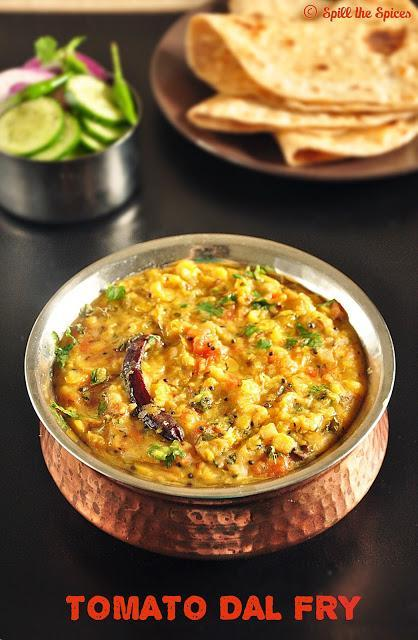dal: (43, 237, 364, 496)
roti: (164, 6, 418, 178)
